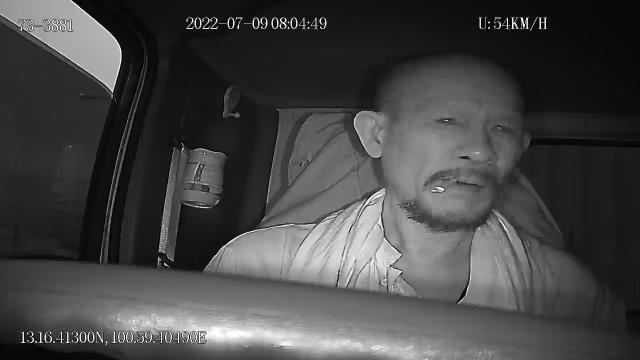SafeDriving: (426, 106, 470, 134), (482, 112, 521, 142)
Smoking: (430, 178, 458, 195)
